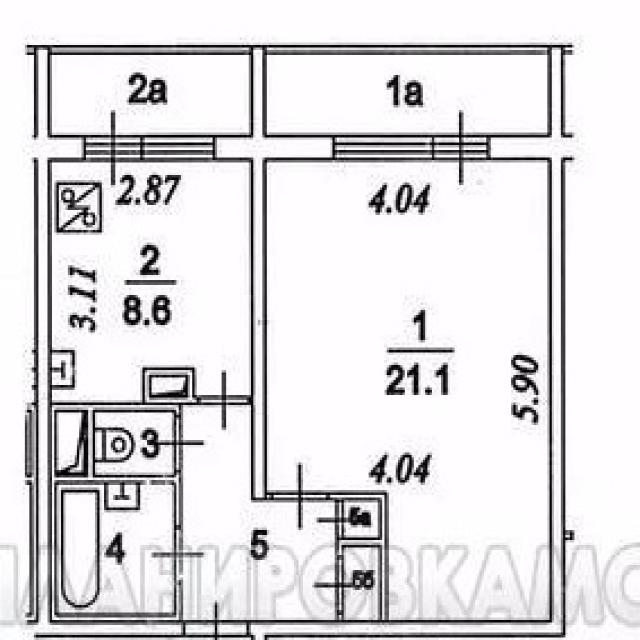Bathrooms: (58, 487, 173, 612), (96, 414, 174, 474)
Corridors: (183, 407, 337, 619), (268, 55, 547, 135), (51, 56, 250, 132), (346, 549, 379, 619), (345, 502, 379, 538)
Doors: (83, 107, 144, 189), (435, 107, 490, 187), (273, 459, 328, 531), (199, 368, 251, 434), (147, 526, 205, 584), (310, 554, 359, 614), (154, 416, 204, 471), (184, 600, 249, 640), (316, 500, 353, 540)
LBwalls: (248, 160, 566, 638), (26, 157, 184, 640), (250, 160, 267, 502), (215, 134, 333, 161), (489, 133, 578, 162), (35, 45, 53, 136), (549, 46, 566, 137), (32, 133, 84, 161), (252, 46, 267, 135)
Offices: (265, 162, 548, 619), (52, 161, 250, 400)
Walls: (50, 367, 199, 621), (328, 491, 390, 621), (23, 403, 37, 621), (266, 45, 549, 55), (49, 46, 253, 54), (564, 45, 575, 55), (24, 44, 34, 54), (265, 493, 275, 501)
Windows: (334, 133, 435, 161), (141, 134, 215, 162)
